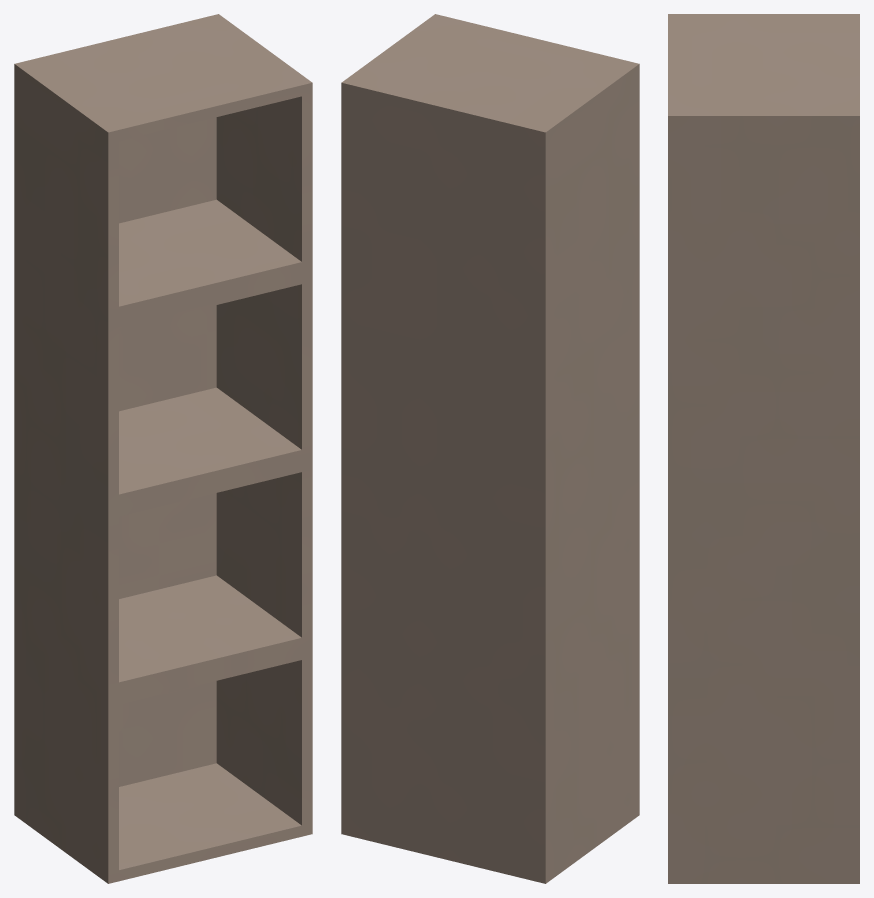
Rendered from Shelf_01_04.fbx.
3 views of the same model, side by side, from view 1: azimuth 30°, elevation 25°; view 2: azimuth 150°, elevation 25°; view 3: azimuth 270°, elevation 25° (orthographic). The views are drawn at different scales.
Visible parts, largest first — view 1: Shelf_01_04; view 2: Shelf_01_04; view 3: Shelf_01_04.
Boxes of the visible parts, x1,y1,x2,y2 form: Shelf_01_04: (14,14,312,883); Shelf_01_04: (341,14,639,883); Shelf_01_04: (668,14,859,883).
Bounding box in the file's own units: 0.4966 × 1.75 × 0.3952.
